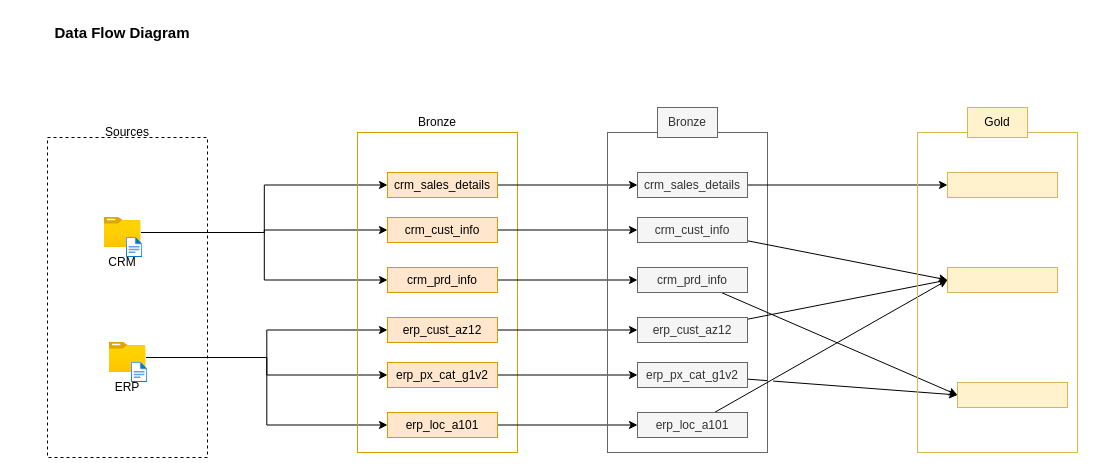
Some shapes in this 1095 by 475 pixel diagram are drawn without their labels. Each missing label, with the centre of its shape:
"dim_customers" belongs at [1002,279].
"dim_products" belongs at [1012,395].
"fact_sales" belongs at [1002,185].
